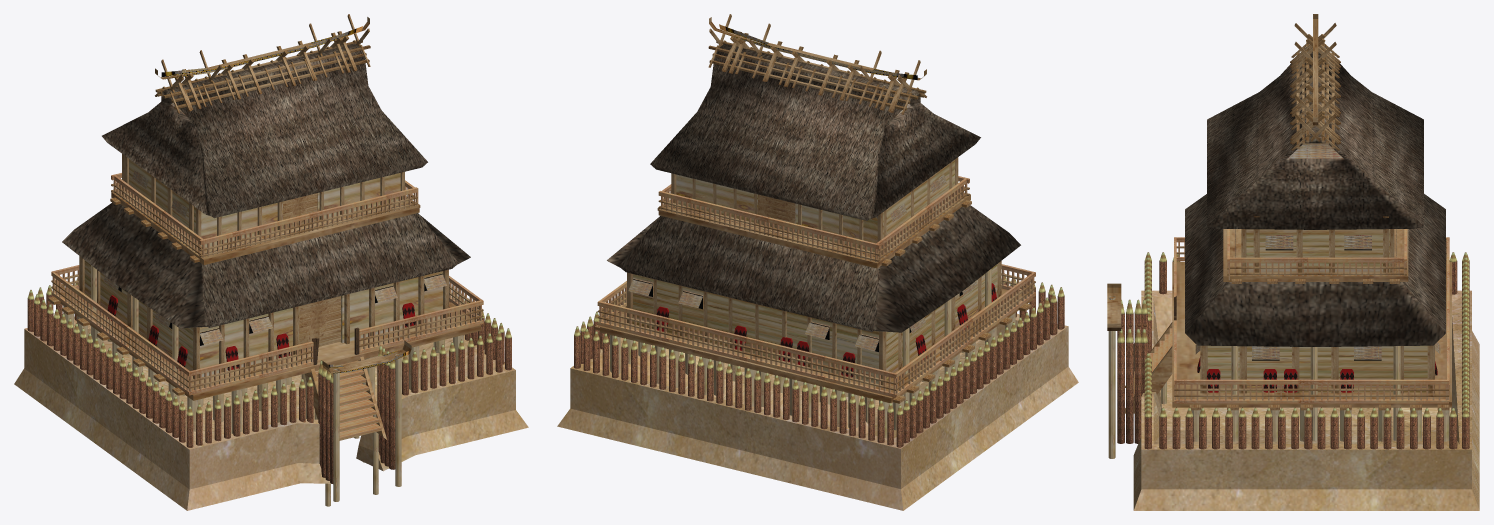
File: yayoi_fortress.dae
3 views of the same model, side by side, from view 1: azimuth 30°, elevation 25°; view 2: azimuth 150°, elevation 25°; view 3: azimuth 270°, elevation 25° (orthographic).
Parts seen in each view (by area): view 1: fortress; view 2: fortress; view 3: fortress.
Boxes of the visible parts, x1=… form: fortress: x1=14, y1=14, x2=528, y2=510; fortress: x1=557, y1=14, x2=1078, y2=510; fortress: x1=1107, y1=14, x2=1479, y2=510.
Size of the model in its own units: 27.52 by 26.01 by 30.27.
1 material, 1 textured.
